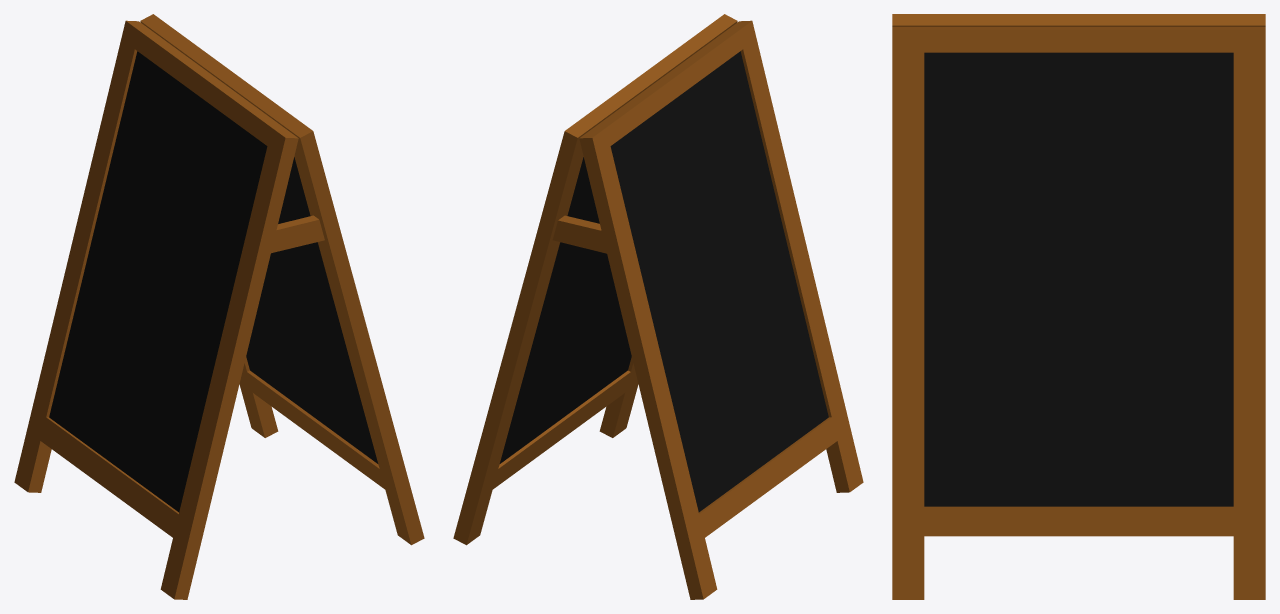
Rendered from A BoardSign 1.fbx.
3 renders of one model, left to right at view 1: azimuth 30°, elevation 25°; view 2: azimuth 150°, elevation 25°; view 3: azimuth 270°, elevation 25°, orthographic. The views are drawn at different scales.
Visible parts, largest first — view 1: Cube; view 2: Cube; view 3: Cube.
Boxes of the visible parts, x1=… form: Cube: x1=14, y1=14, x2=424, y2=599; Cube: x1=453, y1=14, x2=863, y2=599; Cube: x1=892, y1=14, x2=1265, y2=599.
Bounding box in the file's own units: 103 × 173 × 114.
